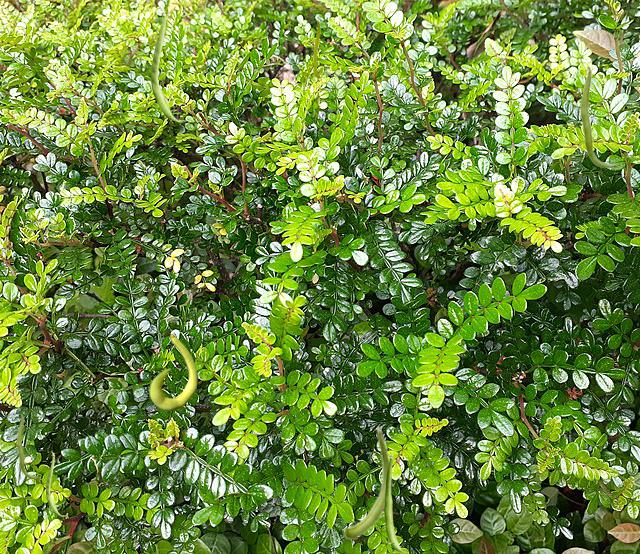french_bean: (342, 425, 389, 539), (579, 65, 619, 168), (151, 7, 185, 121), (149, 334, 196, 409), (384, 454, 406, 551), (16, 414, 40, 478), (46, 451, 65, 515), (313, 19, 321, 77)
